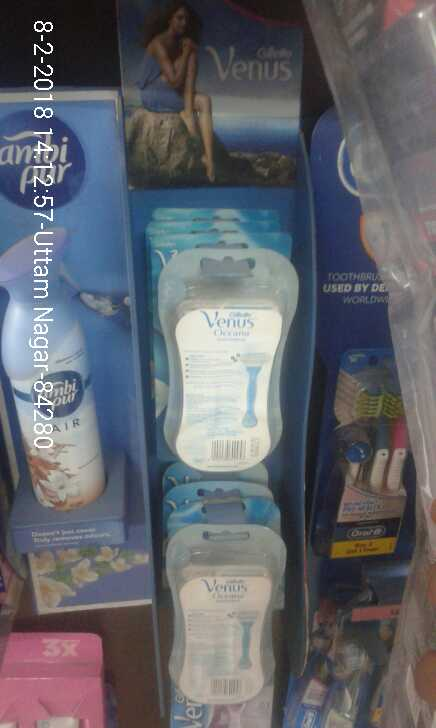ambipure: (6, 215, 115, 523)
